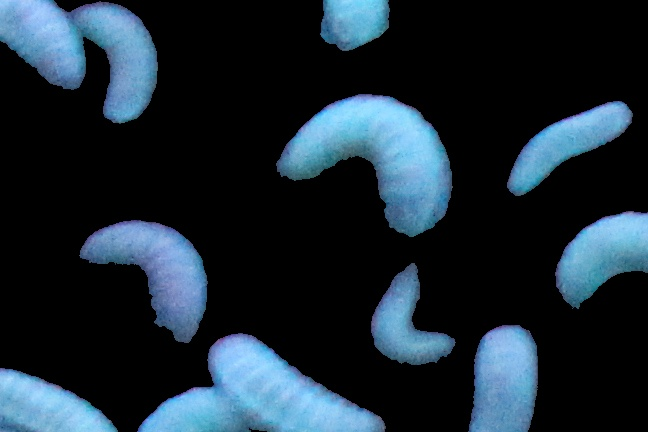larvae: (278, 94, 450, 243), (77, 218, 207, 348), (210, 337, 379, 432), (559, 206, 648, 311), (1, 355, 122, 432), (513, 97, 622, 180), (368, 262, 448, 364), (474, 319, 546, 432), (88, 11, 157, 120), (1, 1, 74, 85), (140, 374, 239, 432), (314, 1, 394, 57)
